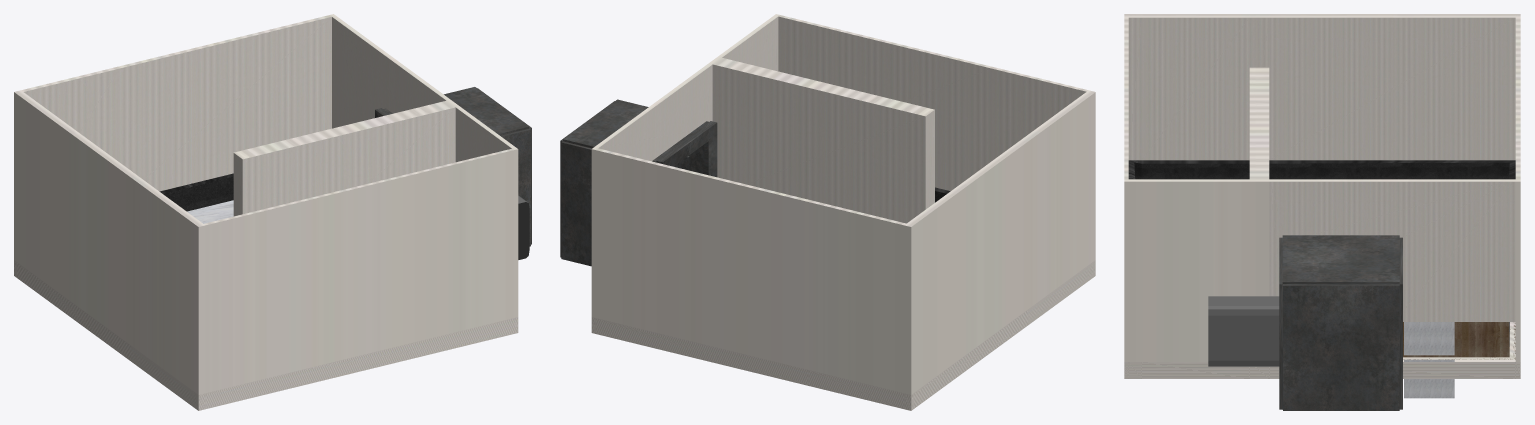
The model's file is lobby.glb.
3 renders of one model, left to right at view 1: azimuth 30°, elevation 25°; view 2: azimuth 150°, elevation 25°; view 3: azimuth 270°, elevation 25°, orthographic. The views are drawn at different scales.
Visible parts, largest first — view 1: Cube, Cube.002, Cube.003, Cube.006, Cube.009; view 2: Cube, Cube.004, Cube.002, Cube.008, Cube.003; view 3: Cube, Cube.005, Cube.002, Cube.006, Cube.009, Cube.003, Cube.004.
Part boxes in pixels (x1=…): Cube: x1=14, y1=14, x2=518, y2=410; Cube.002: x1=383, y1=87, x2=529, y2=135; Cube.003: x1=500, y1=128, x2=530, y2=246; Cube.006: x1=518, y1=195, x2=529, y2=259; Cube.009: x1=187, y1=200, x2=233, y2=223; Cube: x1=591, y1=14, x2=1095, y2=410; Cube.004: x1=561, y1=141, x2=591, y2=266; Cube.002: x1=563, y1=99, x2=708, y2=162; Cube.008: x1=656, y1=121, x2=717, y2=177; Cube.003: x1=674, y1=144, x2=704, y2=173; Cube: x1=1124, y1=14, x2=1520, y2=378; Cube.005: x1=1283, y1=284, x2=1399, y2=410; Cube.002: x1=1282, y1=235, x2=1399, y2=286; Cube.006: x1=1208, y1=296, x2=1279, y2=366; Cube.009: x1=1404, y1=322, x2=1454, y2=398; Cube.003: x1=1279, y1=237, x2=1282, y2=409; Cube.004: x1=1399, y1=237, x2=1402, y2=409.
Bounding box in the file's own units: 8.66 × 4.22 × 6.79.
15 materials, 11 textured.
